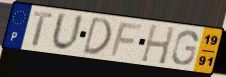D: (81, 15, 113, 56)
F: (108, 22, 144, 58)
G: (170, 29, 200, 66)
H: (139, 23, 177, 66)
T: (31, 11, 54, 48)
U: (50, 11, 86, 54)
